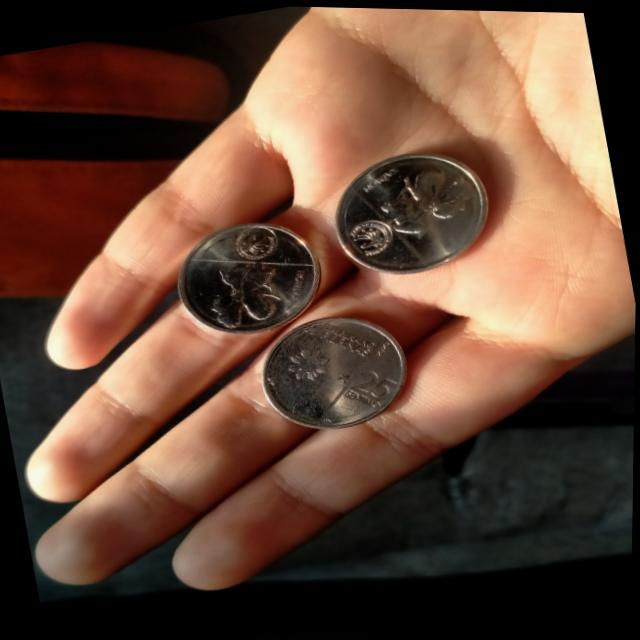25Cent_New_Back: (379, 157, 478, 244), (206, 256, 291, 340)
25Cent_New_Front: (340, 356, 407, 423)
